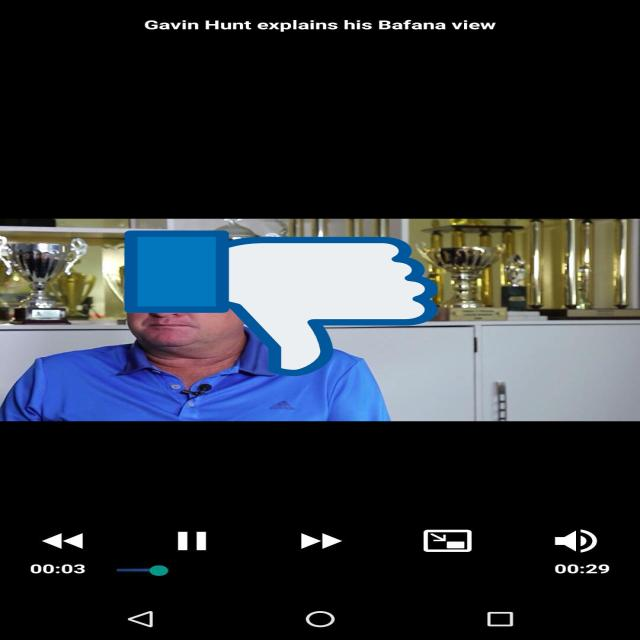obstruction: (124, 228, 438, 380)
